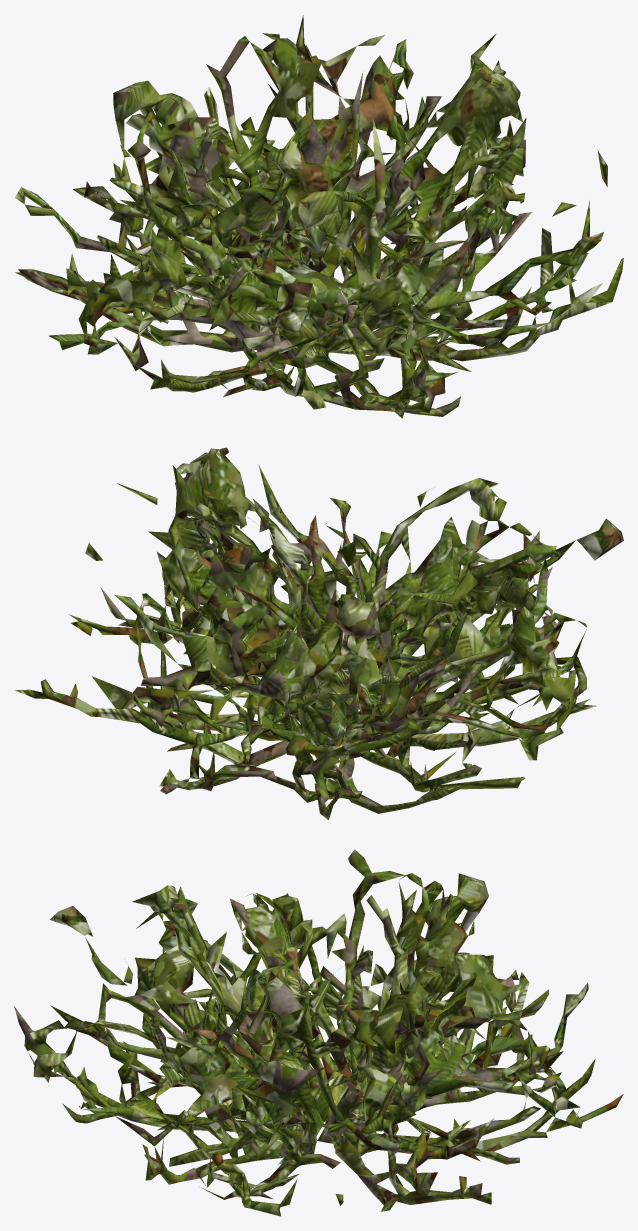
Rendered from tree.fbx.
3 renders of one model, top to bottom at view 1: azimuth 30°, elevation 25°; view 2: azimuth 150°, elevation 25°; view 3: azimuth 270°, elevation 25°, orthographic. The views are drawn at different scales.
Parts seen in each view (by area): view 1: mesh_node; view 2: mesh_node; view 3: mesh_node.
Boxes of the visible parts, left/top/right/bottom form: mesh_node: left=15, top=15, right=623, bottom=418; mesh_node: left=15, top=447, right=623, bottom=819; mesh_node: left=14, top=849, right=623, bottom=1216.
Bounding box in the file's own units: 1.69 × 0.8869 × 1.8.
